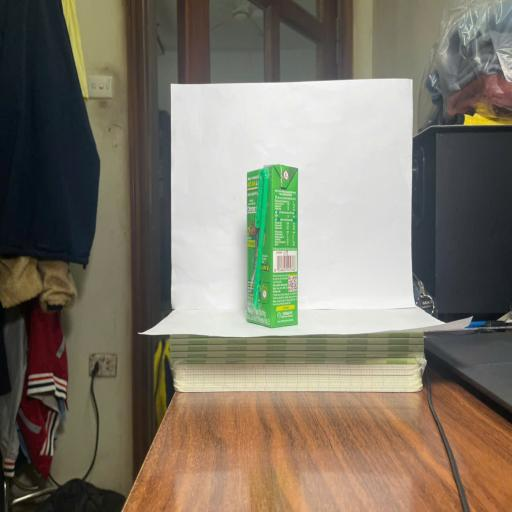milo: (247, 166, 298, 326)
